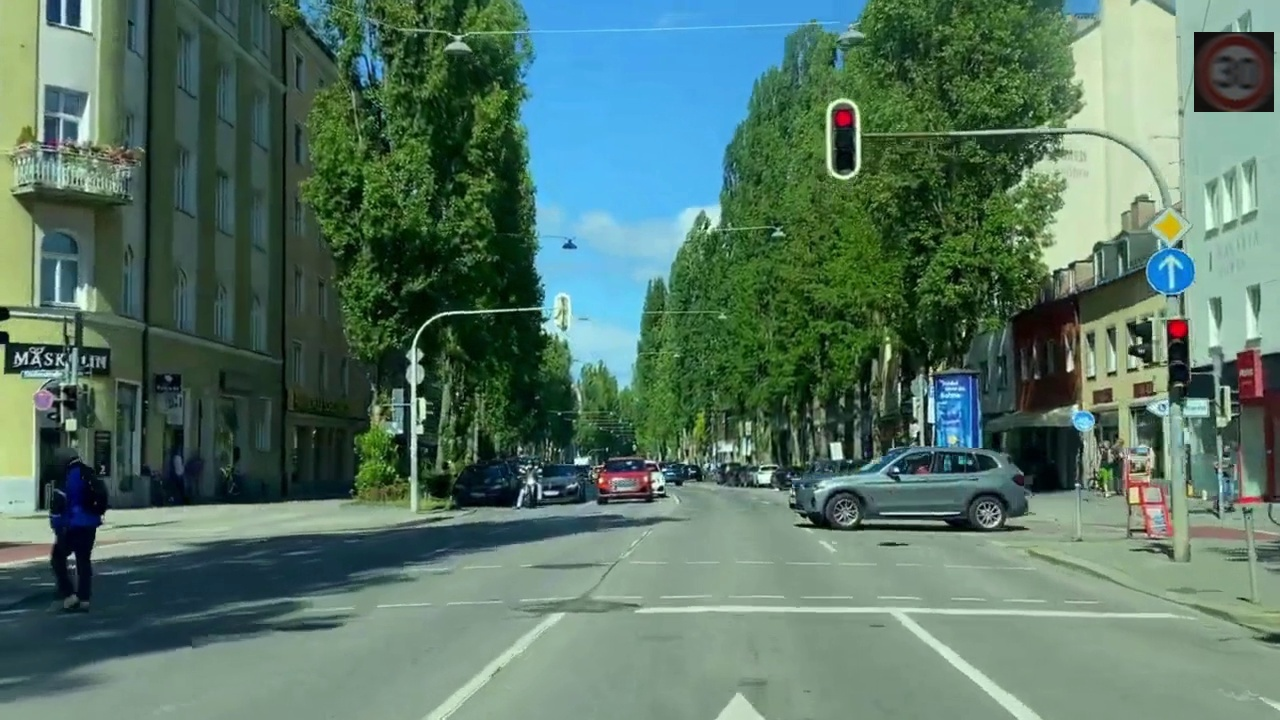Speed 30: (1194, 32, 1274, 112)
